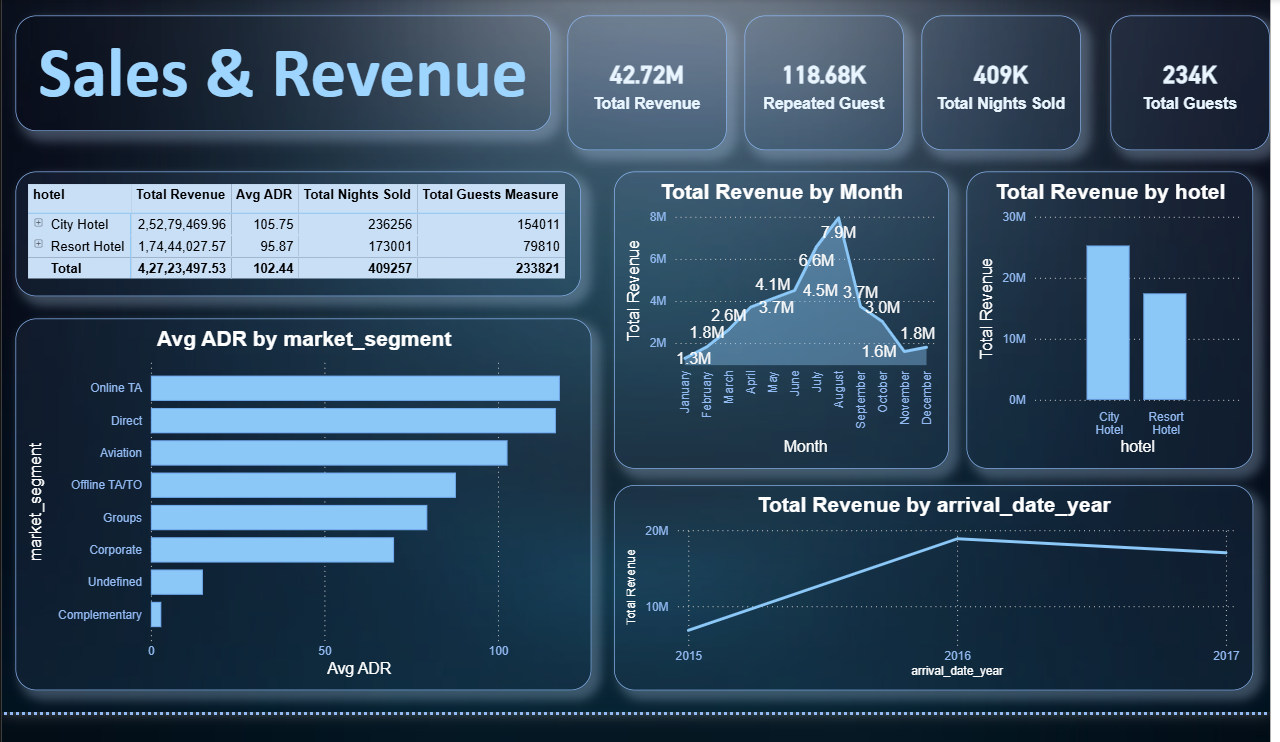

The dashboard page shown, as its layout file describes it:
{"tool":"powerbi","page":{"name":"Sales & Revenue","canvas":[1280,720],"ordinal":1},"visuals":[{"type":"textbox","box":[13.6,16.7,540.6,116.6],"z":0},{"type":"card","fields":{"Values":["hotel_bookings.Total Revenue"]},"box":[570.9,16.7,160.5,136.3],"z":1000},{"type":"card","fields":{"Values":["CountNonNull(hotel_bookings.is_repeated_guest)"]},"box":[749.5,16.7,160.5,136.3],"z":2000},{"type":"card","fields":{"Values":["hotel_bookings.Total Nights Sold"]},"box":[928.2,16.7,160.5,136.3],"z":3000},{"type":"card","fields":{"Values":["Sum(hotel_bookings.total_guests)"]},"box":[1119,16.7,160.5,136.3],"z":4000},{"type":"areaChart","title":"Total Revenue by Month","fields":{"Y":["hotel_bookings.Total Revenue"],"Category":["hotel_bookings.Arrival_Date.Variation.Date Hierarchy.Month"]},"box":[617.8,174.1,337.7,299.8],"z":5000},{"type":"clusteredColumnChart","fields":{"Y":["hotel_bookings.Total Revenue"],"Category":["hotel_bookings.hotel"]},"box":[973.6,174.1,289.2,299.8],"z":6000},{"type":"clusteredBarChart","fields":{"Category":["hotel_bookings.market_segment"],"Y":["hotel_bookings.Avg ADR"]},"box":[13.6,322.5,581.5,375.5],"z":7000},{"type":"pivotTable","fields":{"Rows":["hotel_bookings.hotel","hotel_bookings.market_segment"],"Values":["hotel_bookings.Total Revenue","hotel_bookings.Avg ADR","hotel_bookings.Total Nights Sold","hotel_bookings.Total Guests Measure"]},"box":[13.6,174.1,570.9,125.7],"z":8000},{"type":"lineChart","fields":{"Y":["hotel_bookings.Total Revenue"],"Category":["hotel_bookings.arrival_date_year"]},"box":[617.8,490.6,645.1,207.4],"z":9000}]}

Visuals, with their boxes in screenshot pixels (x1, y1, x2, y2), scaled from the page's 1280x720 canvas onto the 1280x742 screenshot:
textbox: locate(14, 17, 554, 137)
card - hotel_bookings.Total Revenue: locate(571, 17, 731, 158)
card - CountNonNull(hotel_bookings.is_repeated_guest): locate(750, 17, 910, 158)
card - hotel_bookings.Total Nights Sold: locate(928, 17, 1089, 158)
card - Sum(hotel_bookings.total_guests): locate(1119, 17, 1279, 158)
"Total Revenue by Month" areaChart: locate(618, 179, 956, 488)
clusteredColumnChart - hotel_bookings.Total Revenue x hotel_bookings.hotel: locate(974, 179, 1263, 488)
clusteredBarChart - hotel_bookings.market_segment x hotel_bookings.Avg ADR: locate(14, 332, 595, 719)
pivotTable - hotel_bookings.hotel x hotel_bookings.market_segment: locate(14, 179, 584, 309)
lineChart - hotel_bookings.Total Revenue x hotel_bookings.arrival_date_year: locate(618, 506, 1263, 719)
